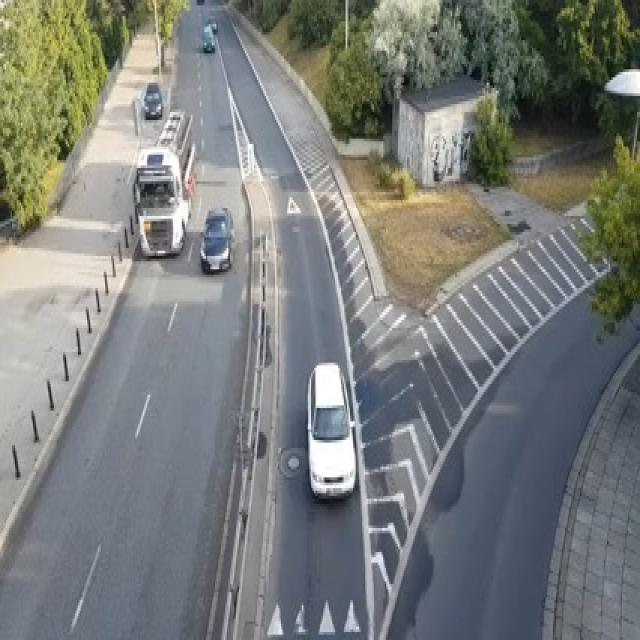car: (305, 360, 356, 501), (198, 205, 234, 272), (141, 80, 162, 117), (201, 24, 215, 51), (208, 13, 216, 32), (196, 0, 204, 3)
